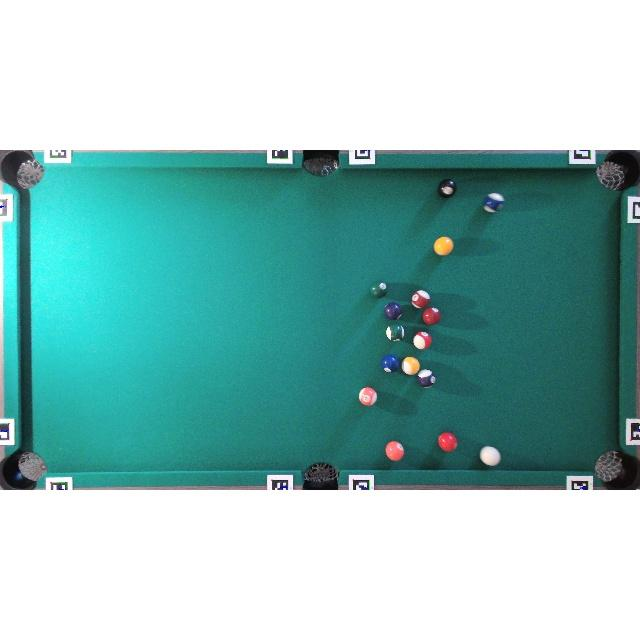cue ball: (479, 446, 501, 466)
other: (437, 431, 458, 453), (483, 192, 504, 212), (434, 236, 454, 256), (385, 441, 405, 461), (438, 178, 457, 198), (416, 369, 436, 388), (401, 356, 420, 375), (381, 354, 399, 373), (384, 302, 403, 320), (412, 290, 431, 308), (359, 387, 377, 406), (386, 324, 405, 342), (422, 307, 440, 325), (414, 331, 432, 349), (369, 282, 386, 298)
